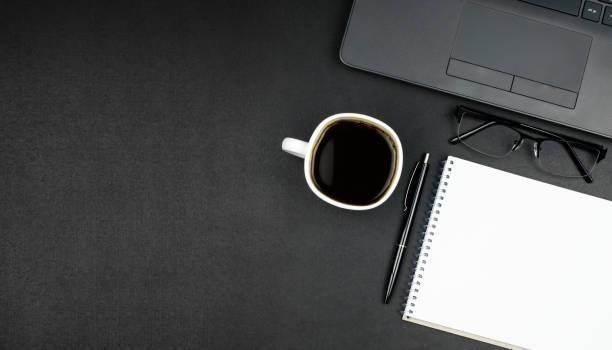cup-handle: (281, 112, 405, 213)
